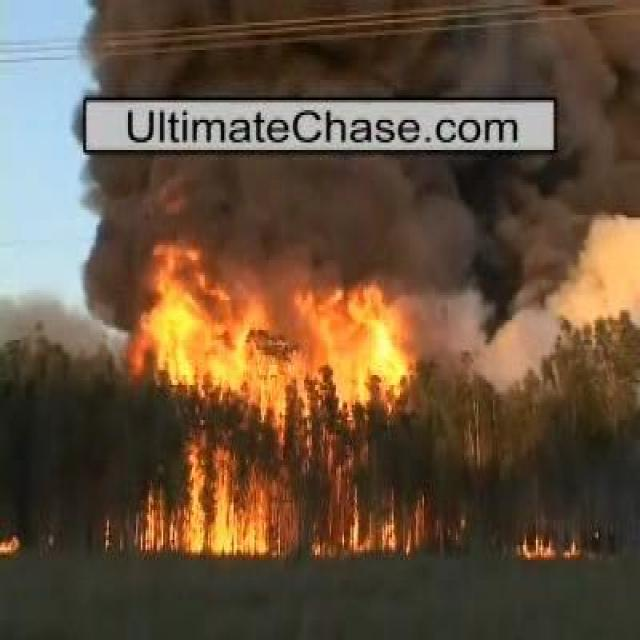fire: (187, 454, 256, 554)
smoke: (100, 170, 431, 250), (90, 15, 413, 90), (475, 170, 626, 306)
